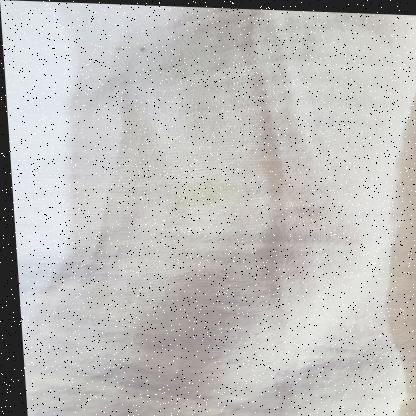spot: (158, 166, 236, 206)
